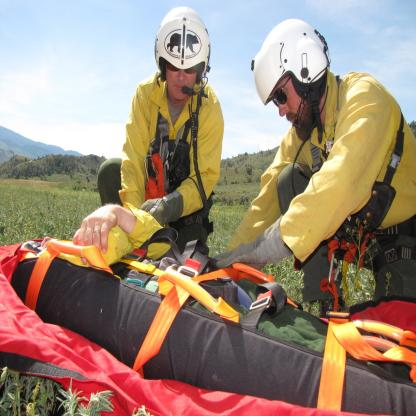Helmet: (250, 22, 336, 130), (154, 3, 212, 82)
